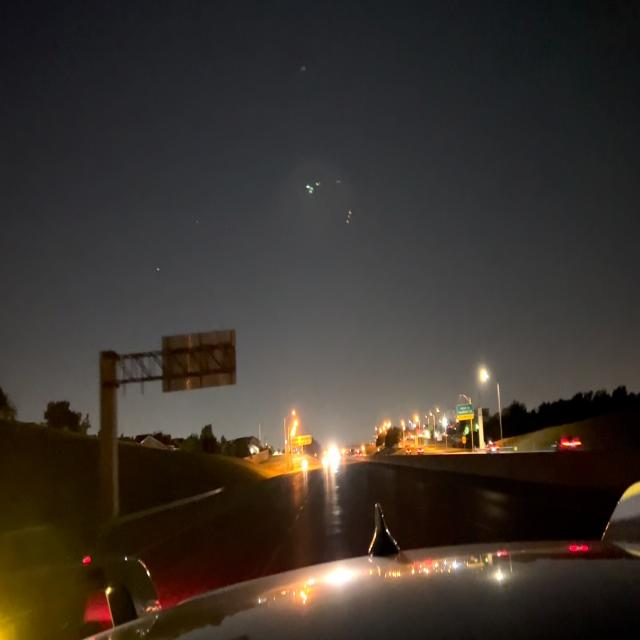back-of-sign: (159, 326, 239, 396)
